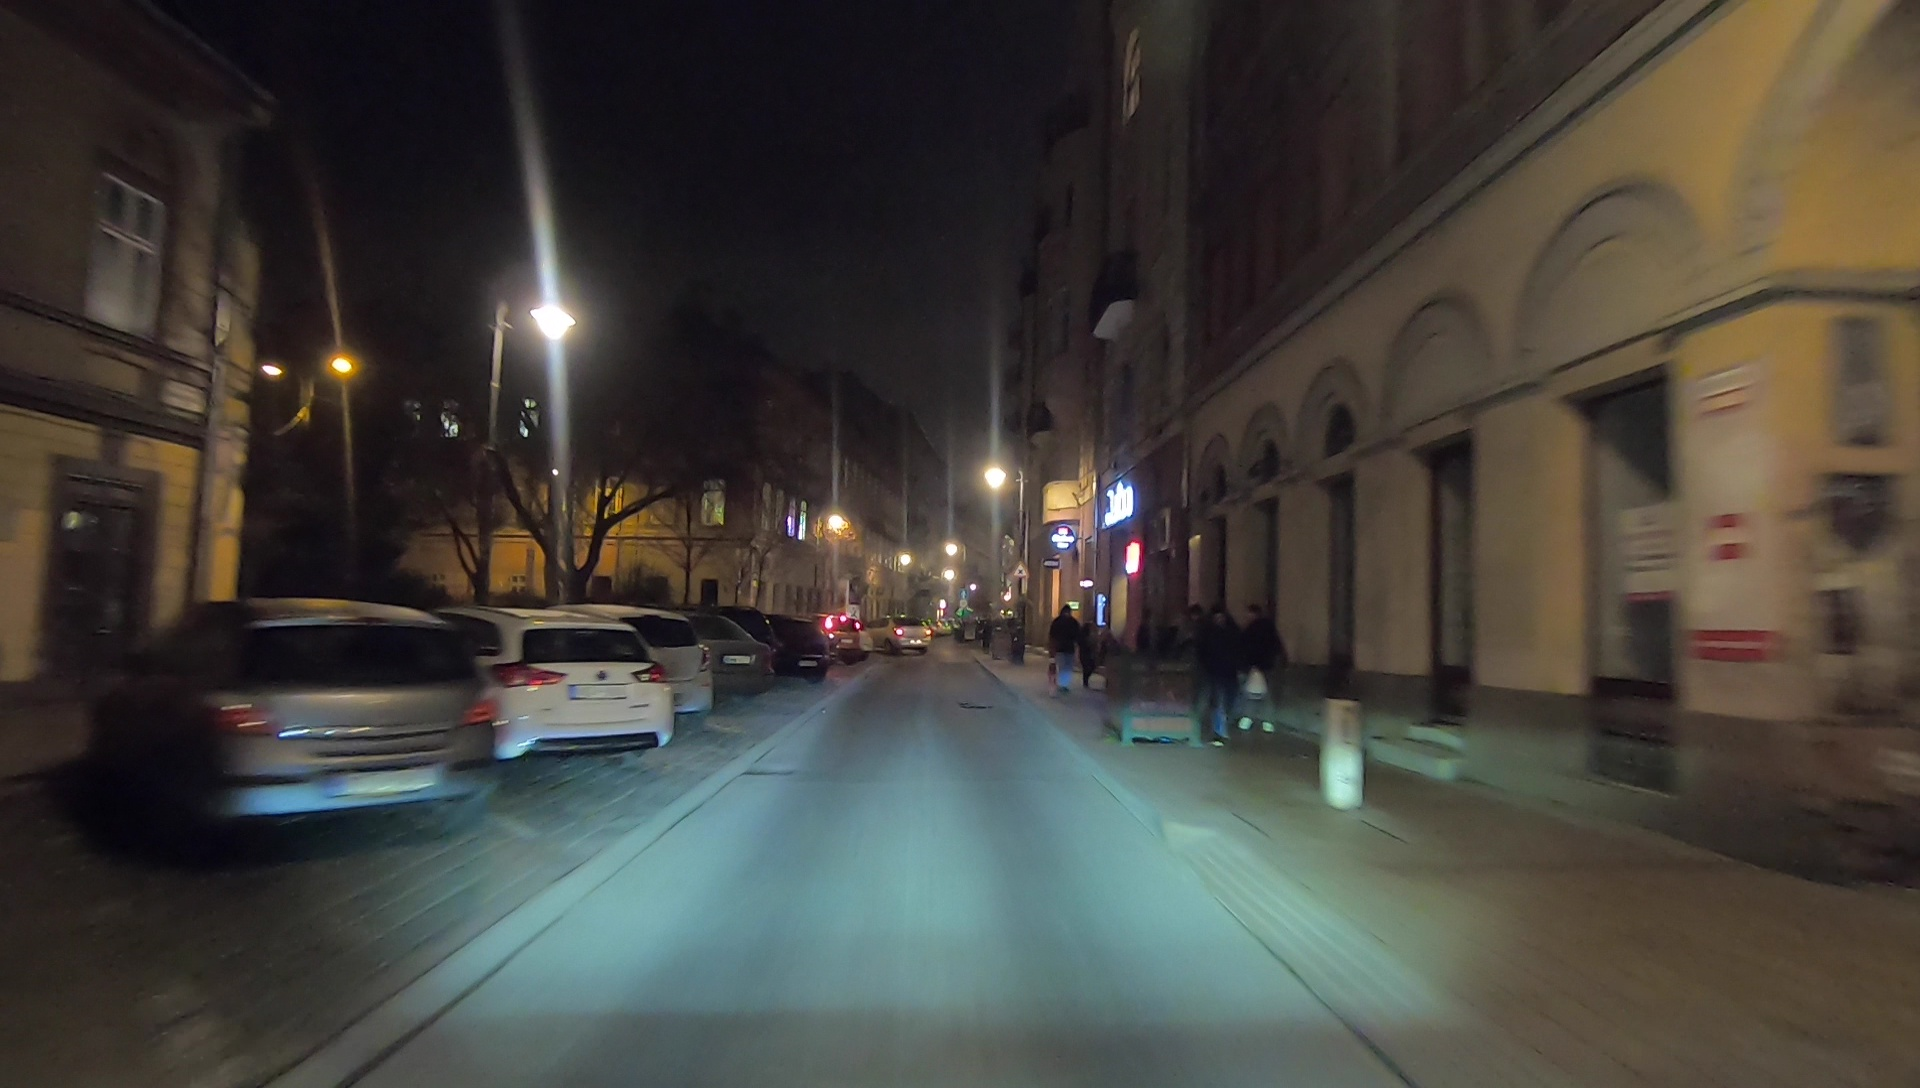person: (1243, 606, 1286, 737), (1197, 605, 1236, 743), (1050, 600, 1080, 695), (1080, 618, 1100, 692)
